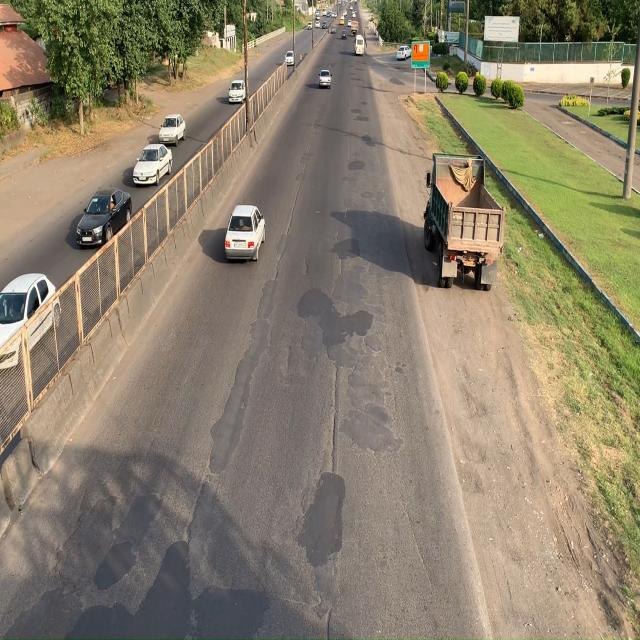Truck: (424, 156, 508, 298)
cars: (0, 272, 54, 374), (74, 185, 132, 248), (222, 205, 264, 263), (133, 144, 173, 187), (158, 110, 186, 145)
